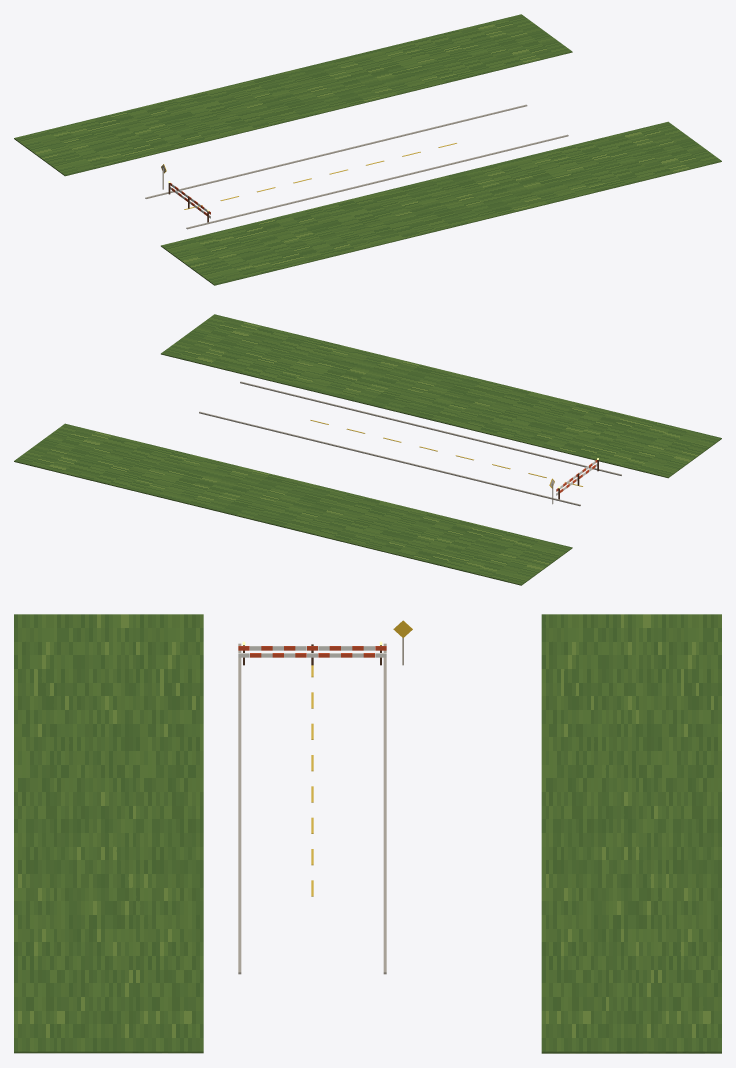
File: structure.glb
3 views of the same model, one above another, from view 1: azimuth 30°, elevation 25°; view 2: azimuth 150°, elevation 25°; view 3: azimuth 270°, elevation 25° (orthographic). The views are drawn at different scales.
Visible parts, largest first — view 1: Box1, Box2, Box12, Box11; view 2: Box1, Box2, Box11, Box12; view 3: Box1, Box2, Box11, Box12.
Boxes of the visible parts, box(x1,y1,x2,y2) form: Box1: box(161, 121, 721, 285); Box2: box(14, 14, 572, 176); Box12: box(186, 134, 568, 229); Box11: box(145, 104, 527, 198); Box1: box(161, 314, 721, 478); Box2: box(14, 423, 572, 585); Box11: box(199, 411, 580, 506); Box12: box(240, 381, 621, 475); Box1: box(14, 614, 203, 1053); Box2: box(541, 614, 721, 1053); Box11: box(383, 643, 386, 974); Box12: box(238, 643, 241, 974).
Bounding box in the file's own units: 55.89 × 2.81 × 38.23.
Materials: 9 (1 with a texture image).
